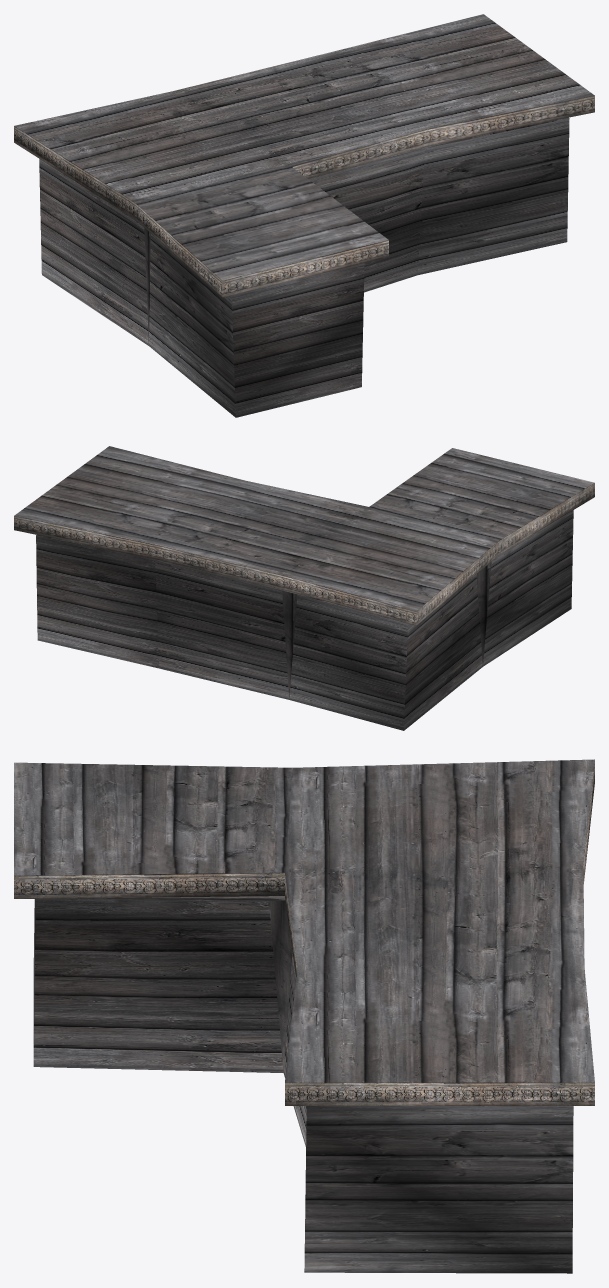
The model's file is tavern_bar_LOD.fbx.
The picture shows the model from 3 angles, top to bottom: view 1: azimuth 30°, elevation 25°; view 2: azimuth 150°, elevation 25°; view 3: azimuth 270°, elevation 25°; orthographic projection. The views are drawn at different scales.
Parts seen in each view (by area): view 1: Default_Layer; view 2: Default_Layer; view 3: Default_Layer.
Boxes of the visible parts, x1,y1,x2,y2 form: Default_Layer: [14, 14, 594, 417]; Default_Layer: [14, 446, 594, 730]; Default_Layer: [14, 759, 594, 1273].
Size of the model in its own units: 826 by 251 by 636.
1 material, 1 textured.
